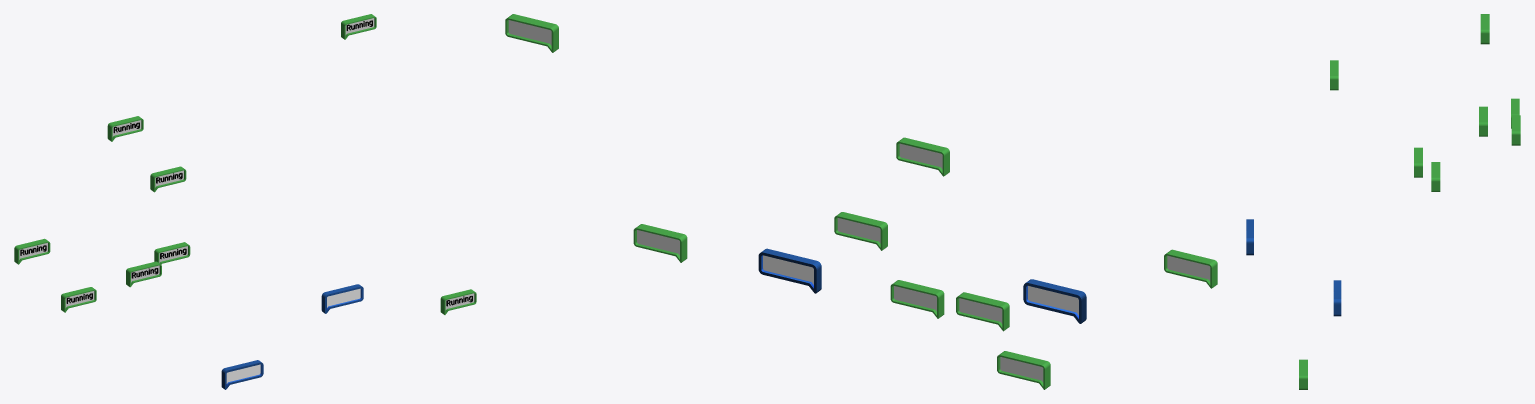
Rendered from pop_up_share_knowledge.glb.
3 views of the same model, side by side, from view 1: azimuth 30°, elevation 25°; view 2: azimuth 150°, elevation 25°; view 3: azimuth 270°, elevation 25° (orthographic). The views are drawn at different scales.
Visible parts, largest first — view 1: pop_up_share_knowledge, pop_up_running, pop_up_running.005, pop_up_running.002, pop_up_running.003, pop_up_running.004, pop_up_running.008, pop_up_running.009, pop_up_running.006, pop_up_running.007; view 2: pop_up_share_knowledge, pop_up_running, pop_up_running.007, pop_up_running.002, pop_up_running.005, pop_up_running.008, pop_up_running.003, pop_up_running.006, pop_up_running.004, pop_up_running.009; view 3: pop_up_share_knowledge, pop_up_running.009, pop_up_running.005, pop_up_running.007, pop_up_running, pop_up_running.002, pop_up_running.004, pop_up_running.006, pop_up_running.008.
Boxes of the visible parts, x1=… form: pop_up_share_knowledge: x1=321, y1=284, x2=363, y2=313; pop_up_running: x1=221, y1=360, x2=263, y2=389; pop_up_running.005: x1=107, y1=116, x2=143, y2=141; pop_up_running.002: x1=440, y1=289, x2=476, y2=314; pop_up_running.003: x1=14, y1=238, x2=50, y2=264; pop_up_running.004: x1=150, y1=166, x2=186, y2=192; pop_up_running.008: x1=126, y1=261, x2=161, y2=287; pop_up_running.009: x1=341, y1=14, x2=376, y2=39; pop_up_running.006: x1=61, y1=287, x2=96, y2=312; pop_up_running.007: x1=154, y1=242, x2=190, y2=264; pop_up_share_knowledge: x1=758, y1=248, x2=821, y2=293; pop_up_running: x1=1023, y1=279, x2=1086, y2=323; pop_up_running.007: x1=890, y1=280, x2=944, y2=318; pop_up_running.002: x1=633, y1=224, x2=687, y2=262; pop_up_running.005: x1=896, y1=137, x2=949, y2=176; pop_up_running.008: x1=956, y1=292, x2=1009, y2=331; pop_up_running.003: x1=997, y1=351, x2=1050, y2=389; pop_up_running.006: x1=1164, y1=249, x2=1217, y2=288; pop_up_running.004: x1=834, y1=212, x2=887, y2=250; pop_up_running.009: x1=505, y1=14, x2=558, y2=52; pop_up_share_knowledge: x1=1333, y1=280, x2=1341, y2=316; pop_up_running.009: x1=1511, y1=115, x2=1520, y2=145; pop_up_running.005: x1=1480, y1=14, x2=1489, y2=44; pop_up_running.007: x1=1431, y1=162, x2=1440, y2=191; pop_up_running: x1=1246, y1=219, x2=1253, y2=255; pop_up_running.002: x1=1299, y1=359, x2=1307, y2=389; pop_up_running.004: x1=1479, y1=106, x2=1487, y2=136; pop_up_running.006: x1=1330, y1=60, x2=1338, y2=90; pop_up_running.008: x1=1414, y1=147, x2=1422, y2=177.
Bounding box in the file's own units: 33.26 × 17.97 × 17.28.
5 materials, 2 textured.
